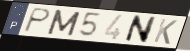4: (102, 13, 124, 41)
5: (77, 12, 103, 39)
K: (152, 18, 179, 46)
M: (45, 9, 82, 38)
N: (123, 14, 158, 44)
P: (22, 7, 53, 34)
